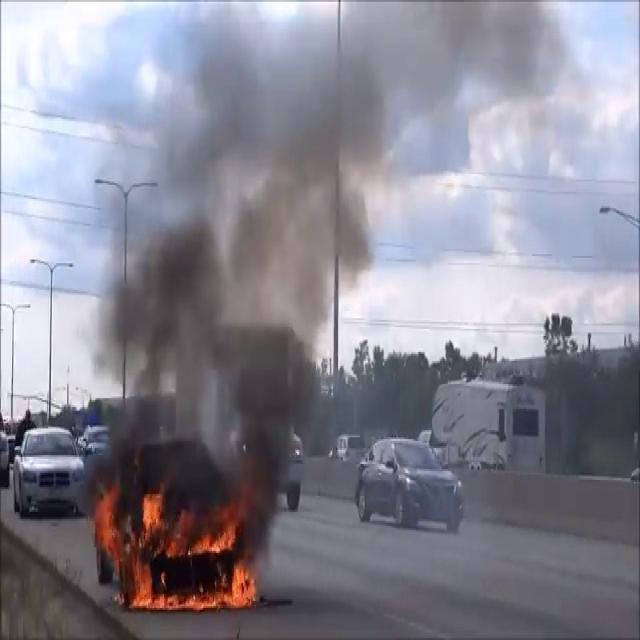Fire: (94, 479, 260, 614)
Smoke: (97, 1, 404, 506)
